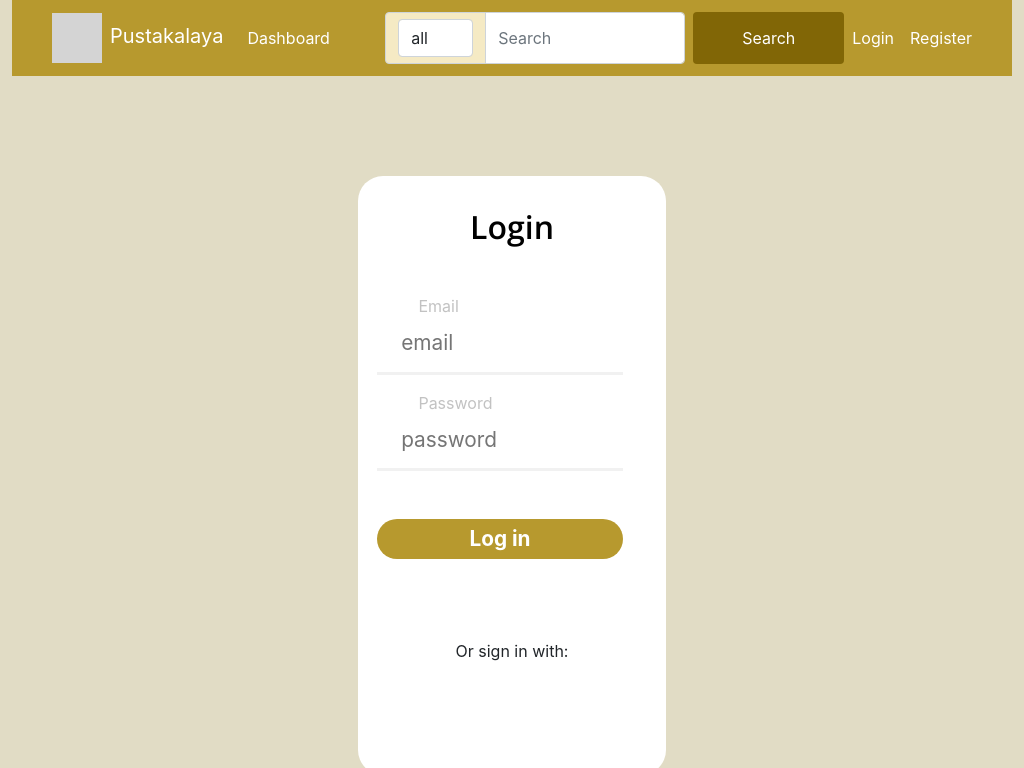
Test case: Login Testing E2E Test Cases › Should check for missing credentials
This screenshot has width=1024, height=768.
Click the element showing "Log in": (500, 539) [377, 519, 623, 559]
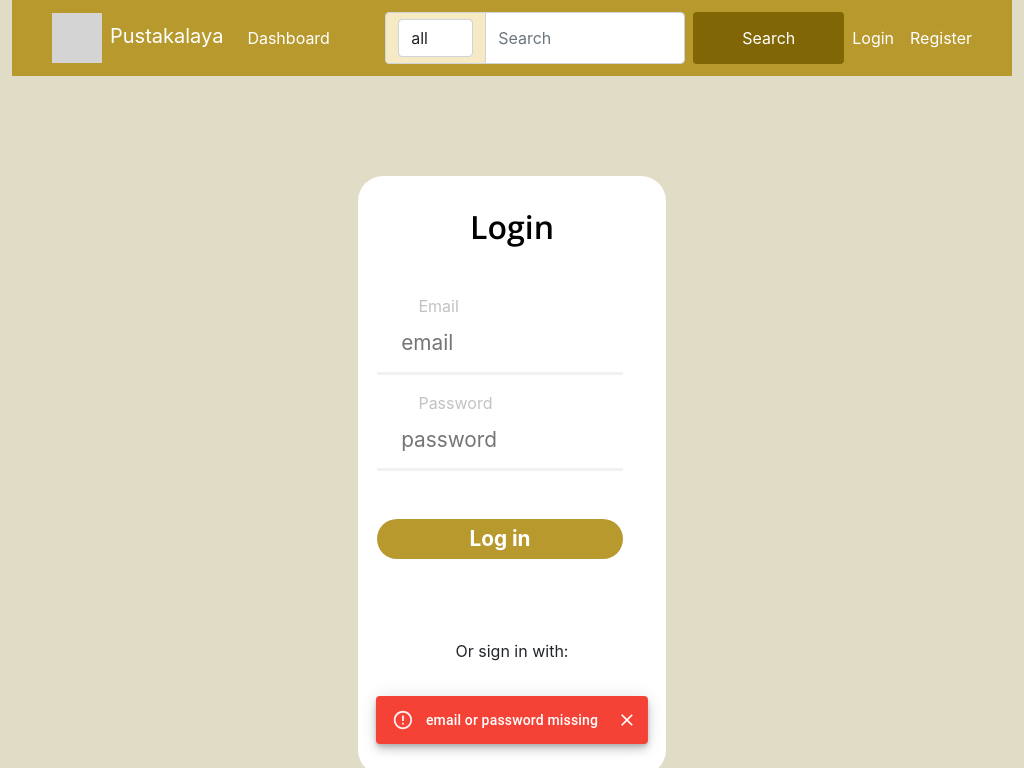
Expected: the message with id "error" reads "email or password missing", [376, 696, 648, 744]
